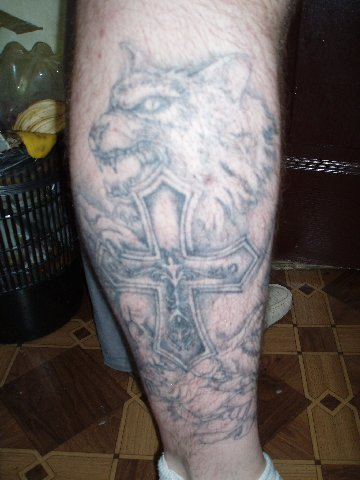tatu1_angel: (112, 171, 247, 378)
